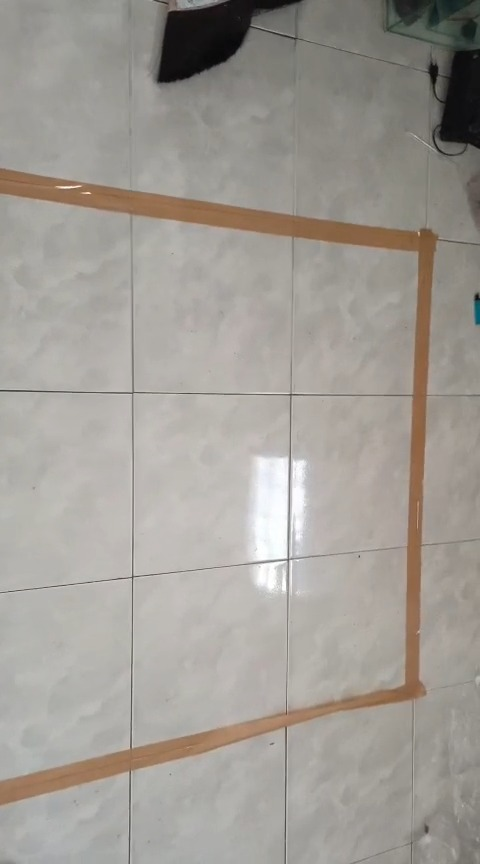floor marking: (0, 169, 435, 804)
